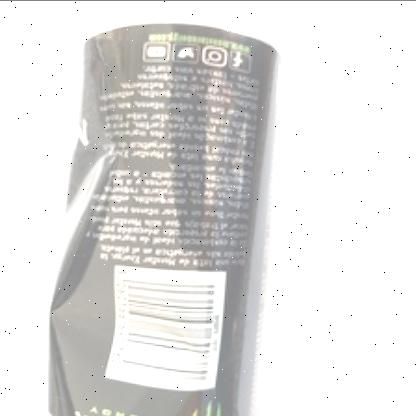Can: (44, 10, 280, 416)
